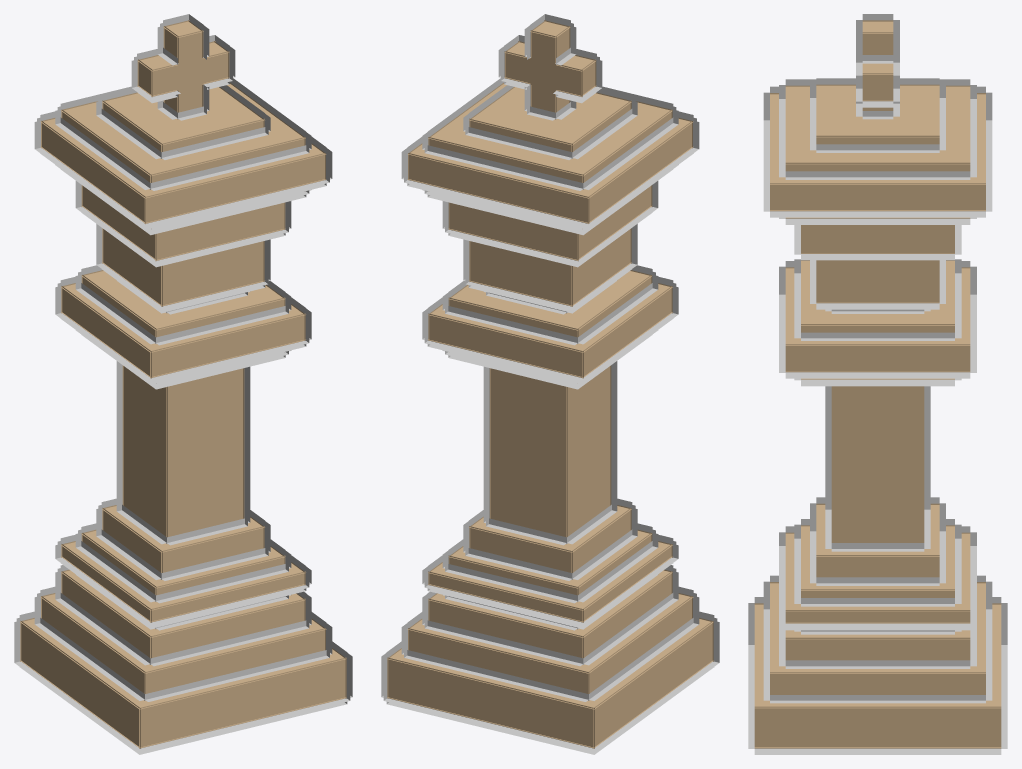
File: tan-king.glb
3 views of the same model, side by side, from view 1: azimuth 30°, elevation 25°; view 2: azimuth 150°, elevation 25°; view 3: azimuth 270°, elevation 25° (orthographic). The views are drawn at different scales.
Parts seen in each view (by area): view 1: chess-king-tan_model; view 2: chess-king-tan_model; view 3: chess-king-tan_model.
Part boxes in pixels (<box>): chess-king-tan_model: <box>14,14,352,754</box>; chess-king-tan_model: <box>381,14,719,754</box>; chess-king-tan_model: <box>748,14,1007,754</box>.
Size of the model in its own units: 1.68 by 4.88 by 1.68.
2 materials, 1 textured.
